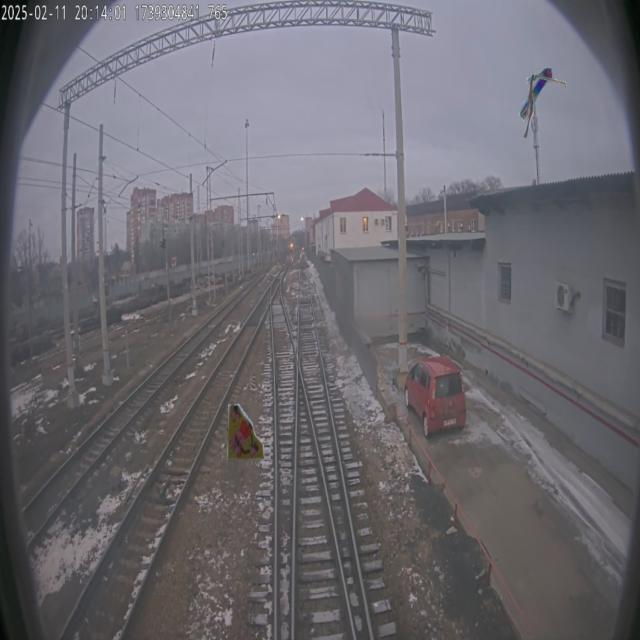floating object: (507, 54, 569, 138), (226, 399, 264, 464)
